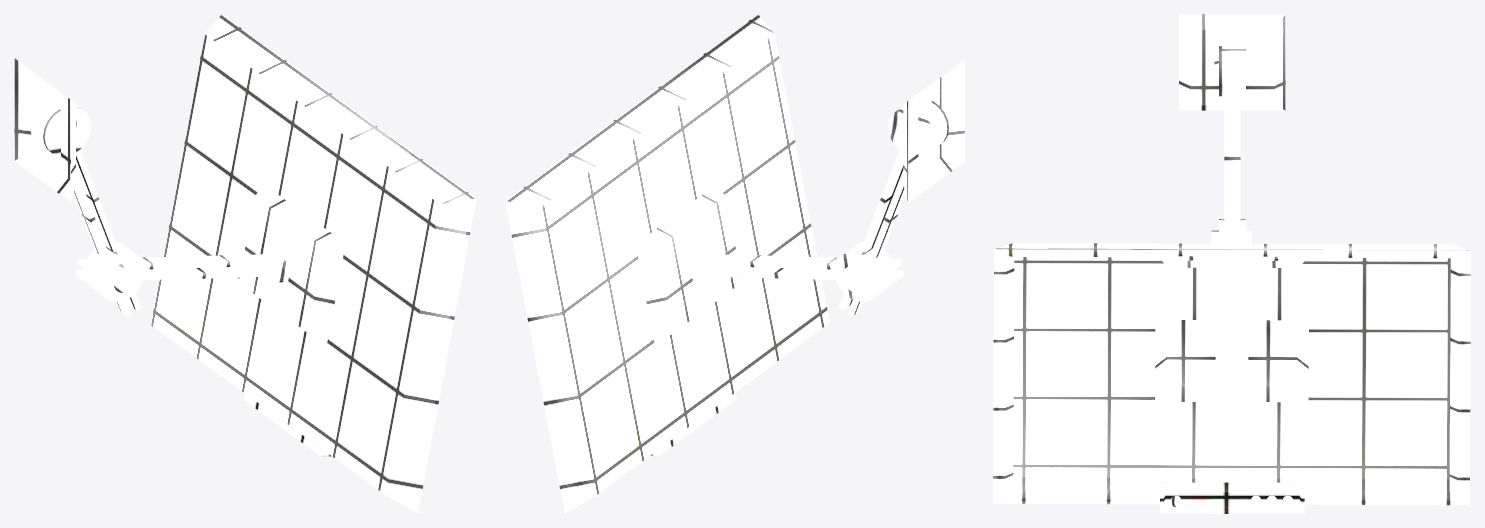
The model's file is SM_monitor.fbx.
3 renders of one model, left to right at view 1: azimuth 30°, elevation 25°; view 2: azimuth 150°, elevation 25°; view 3: azimuth 270°, elevation 25°, orthographic. The views are drawn at different scales.
Visible parts, largest first — view 1: SM_monitor_LOD0; view 2: SM_monitor_LOD0; view 3: SM_monitor_LOD0.
Boxes of the visible parts, bbox=[...] form: SM_monitor_LOD0: bbox=[14, 14, 476, 513]; SM_monitor_LOD0: bbox=[505, 14, 964, 513]; SM_monitor_LOD0: bbox=[993, 14, 1470, 513].
Size of the model in its own units: 80.48 by 114 by 101.
Materials: 1 (1 with a texture image).
